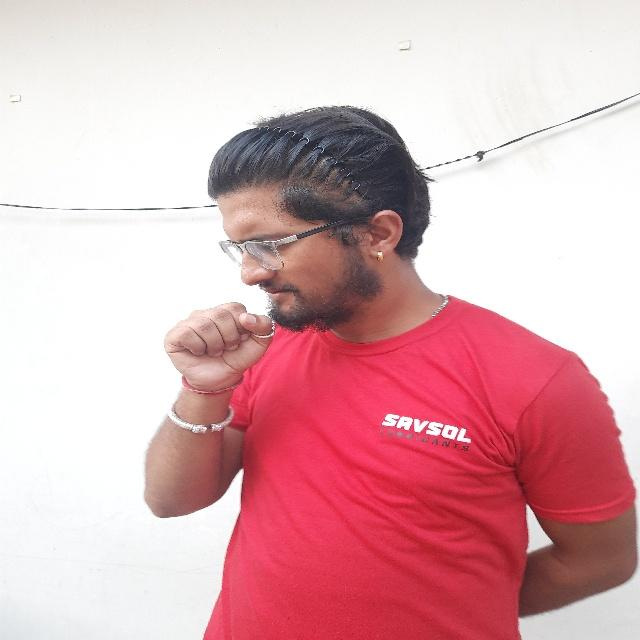Fist Mouth: (144, 107, 391, 415)
